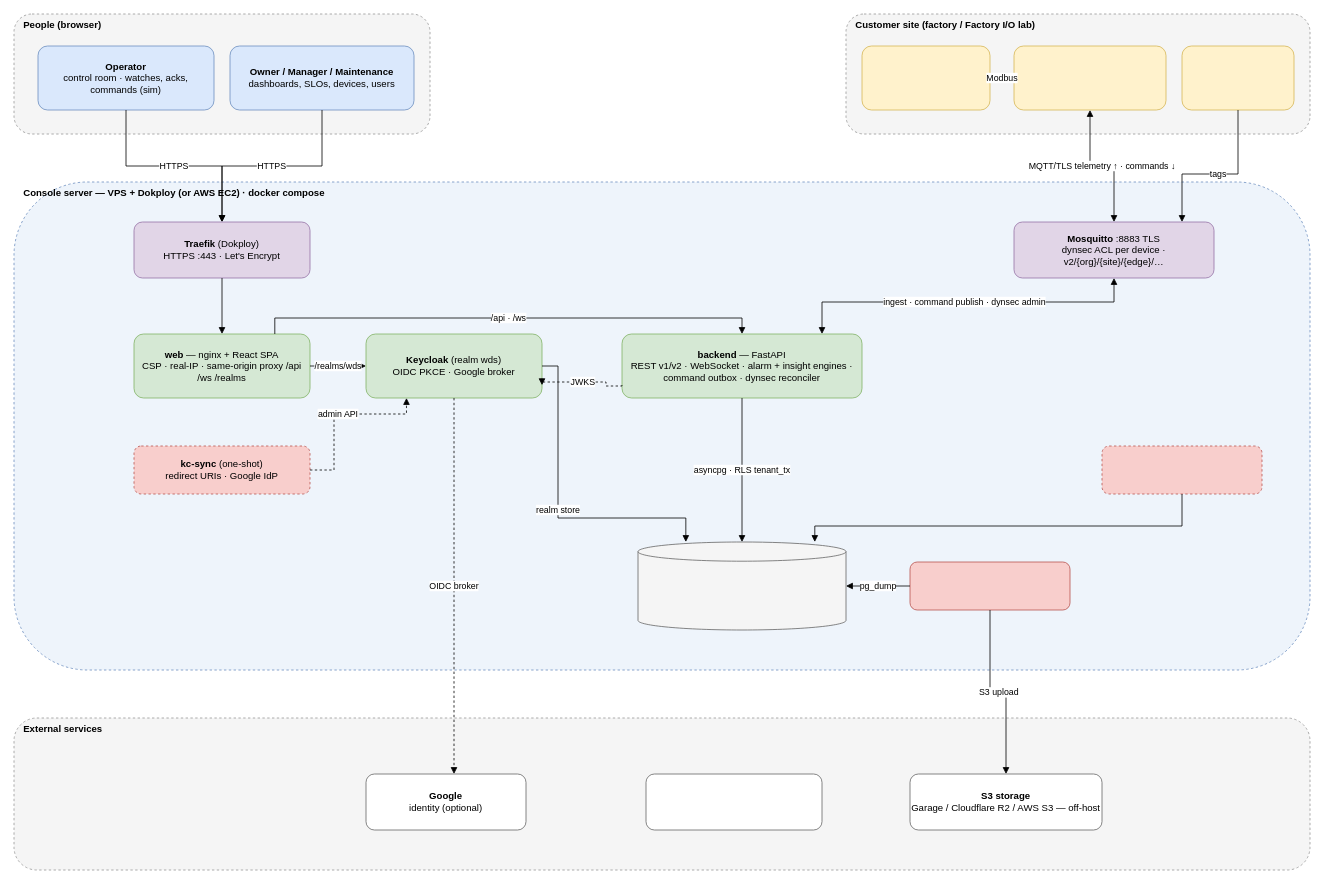
Some shapes in this 1324 by 884 pixel diagram are drawn without their labels. Here are the shapes that lost their labels. From the top down, the centre of each, then its label:
At (x=925, y=77): "PLC / Factory I/O Modbus TCP".
At (x=1089, y=77): "edge-bridge sim | modbus adapter per-device MQTT key".
At (x=1237, y=77): "Vision (YOLO) local PC · gravel/sand ratio".
At (x=1181, y=469): "migrate (one-shot) Alembic as wds_owner".
At (x=741, y=585): "PostgreSQL 16 db wds (RLS per org) · db keycloak".
At (x=989, y=585): "backup daily pg_dump -Fc · rclone".
At (x=733, y=801): "Uptime probe external · GET /api/health".
